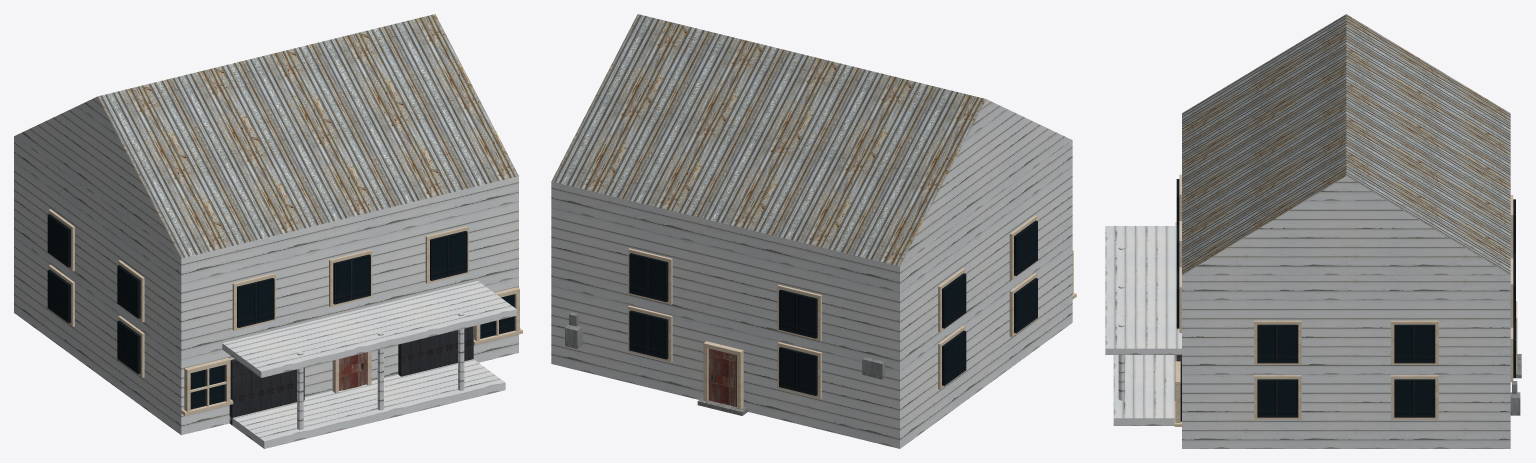
File: modern-farmhouse_lod0.gltf
The picture shows the model from 3 angles, left to right: view 1: azimuth 30°, elevation 25°; view 2: azimuth 150°, elevation 25°; view 3: azimuth 270°, elevation 25°; orthographic projection. The views are drawn at different scales.
Parts seen in each view (by area): view 1: modern-farmhouse_roof, modern-farmhouse_walls, modern-farmhouse_porch, modern-farmhouse_fen_07-glass-curtain-blue_4_t, modern-farmhouse_gable_ends, modern-farmhouse_fen_04-limestone_0, modern-farmhouse__garage_door_a, modern-farmhouse__garage_door_b, modern-farmhouse_fen_19-red-timber_1; view 2: modern-farmhouse_walls, modern-farmhouse_roof, modern-farmhouse_fen_07-glass-curtain-blue_4_t, modern-farmhouse_gable_ends, modern-farmhouse_fen_04-limestone_0, modern-farmhouse_fen_14-steel-panel_6, modern-farmhouse_fen_19-red-timber_1, modern-farmhouse_fen_19-red-timber_2_t; view 3: modern-farmhouse_roof, modern-farmhouse_walls, modern-farmhouse_gable_ends, modern-farmhouse_porch, modern-farmhouse_fen_07-glass-curtain-blue_4_t, modern-farmhouse_fen_04-limestone_0.
Boxes of the visible parts, left/top/right/bottom form: modern-farmhouse_roof: left=98, top=14, right=518, bottom=258; modern-farmhouse_walls: left=14, top=136, right=518, bottom=435; modern-farmhouse_porch: left=222, top=281, right=516, bottom=448; modern-farmhouse_fen_07-glass-curtain-blue_4_t: left=47, top=214, right=514, bottom=409; modern-farmhouse_gable_ends: left=14, top=96, right=180, bottom=257; modern-farmhouse_fen_04-limestone_0: left=48, top=209, right=522, bottom=415; modern-farmhouse__garage_door_a: left=229, top=359, right=304, bottom=424; modern-farmhouse__garage_door_b: left=398, top=326, right=473, bottom=376; modern-farmhouse_fen_19-red-timber_1: left=339, top=352, right=366, bottom=390; modern-farmhouse_walls: left=551, top=140, right=1072, bottom=448; modern-farmhouse_roof: left=551, top=14, right=986, bottom=266; modern-farmhouse_fen_07-glass-curtain-blue_4_t: left=629, top=220, right=1037, bottom=395; modern-farmhouse_gable_ends: left=900, top=99, right=1072, bottom=265; modern-farmhouse_fen_04-limestone_0: left=628, top=215, right=1076, bottom=409; modern-farmhouse_fen_14-steel-panel_6: left=565, top=312, right=884, bottom=379; modern-farmhouse_fen_19-red-timber_1: left=708, top=348, right=736, bottom=407; modern-farmhouse_fen_19-red-timber_2_t: left=714, top=356, right=732, bottom=404; modern-farmhouse_roof: left=1182, top=14, right=1510, bottom=274; modern-farmhouse_walls: left=1182, top=275, right=1510, bottom=448; modern-farmhouse_gable_ends: left=1182, top=176, right=1509, bottom=275; modern-farmhouse_porch: left=1105, top=226, right=1181, bottom=425; modern-farmhouse_fen_07-glass-curtain-blue_4_t: left=1176, top=179, right=1515, bottom=421; modern-farmhouse_fen_04-limestone_0: left=1174, top=174, right=1517, bottom=426.
Bounding box in the file's own units: 14.4 × 11.02 × 15.2.
